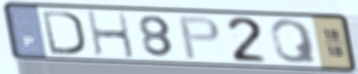2: (225, 15, 269, 65)
8: (137, 14, 176, 59)
D: (40, 9, 87, 57)
H: (84, 10, 137, 60)
P: (177, 15, 224, 61)
Q: (268, 18, 321, 65)
